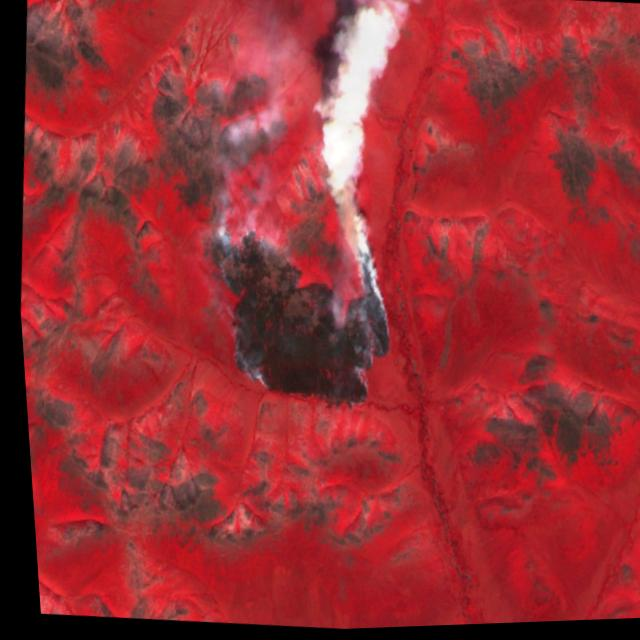fire: (189, 161, 407, 424)
